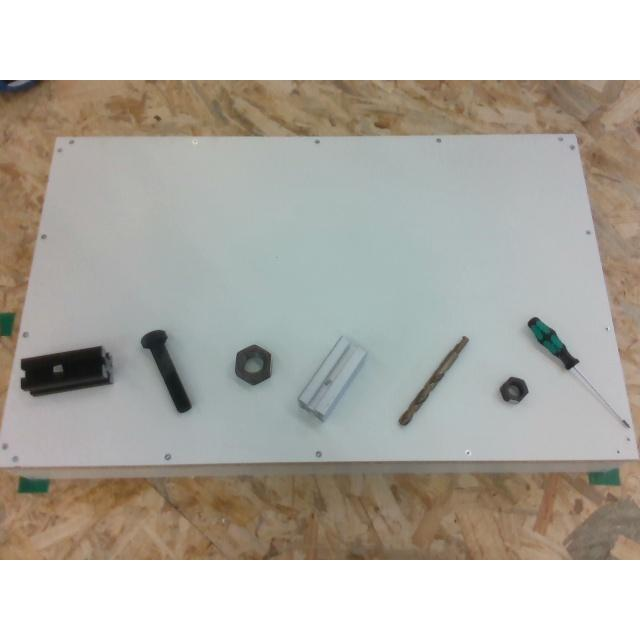Drill: (397, 336, 467, 424)
M20: (499, 377, 527, 401)
M20_100: (140, 330, 190, 410)
M30: (234, 344, 270, 384)
S40_40_B: (20, 346, 111, 394)
S40_40_G: (298, 336, 366, 418)
Screwdriver: (528, 318, 630, 430)
